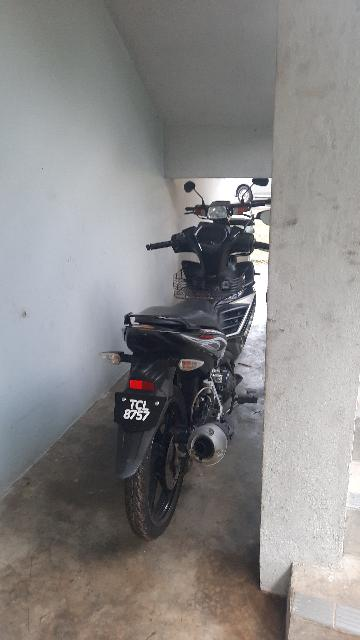License_Plate: (112, 391, 168, 434)
motorcycle: (94, 214, 266, 545)
